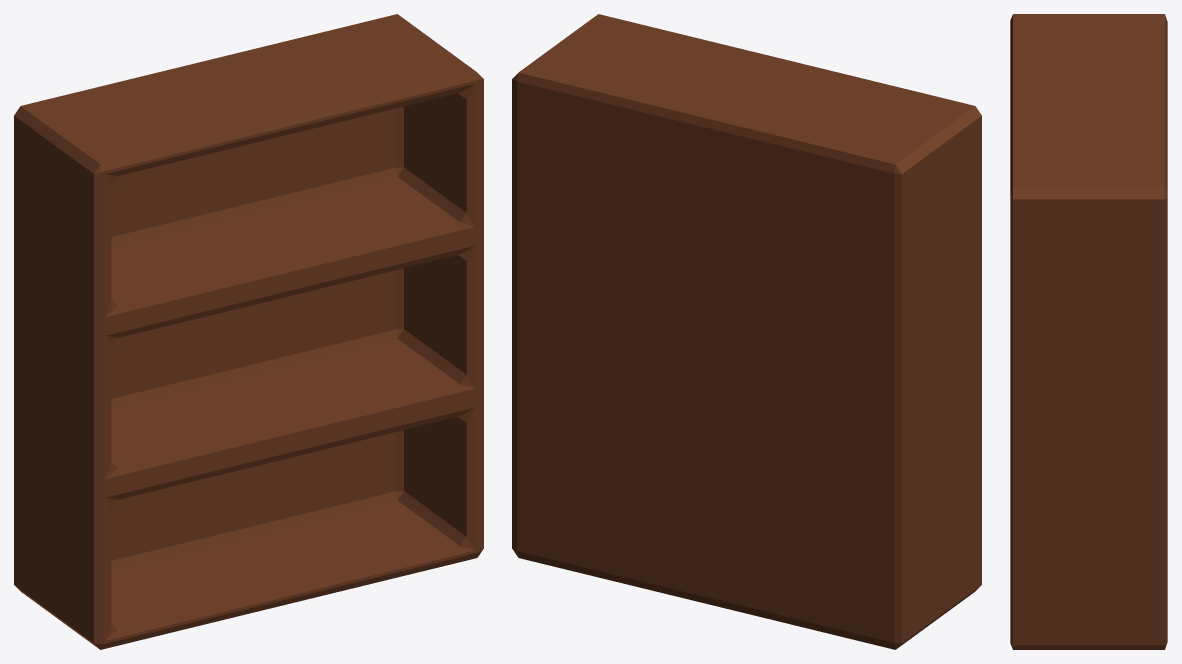
3 renders of one model, left to right at view 1: azimuth 30°, elevation 25°; view 2: azimuth 150°, elevation 25°; view 3: azimuth 270°, elevation 25°, orthographic. The views are drawn at different scales.
Visible parts, largest first — view 1: Cube.033; view 2: Cube.033; view 3: Cube.033.
Part boxes in pixels (<box>): Cube.033: <box>14,14,483,649</box>; Cube.033: <box>512,14,981,649</box>; Cube.033: <box>1010,14,1167,649</box>.
Bounding box in the file's own units: 190 × 226 × 69.9.
